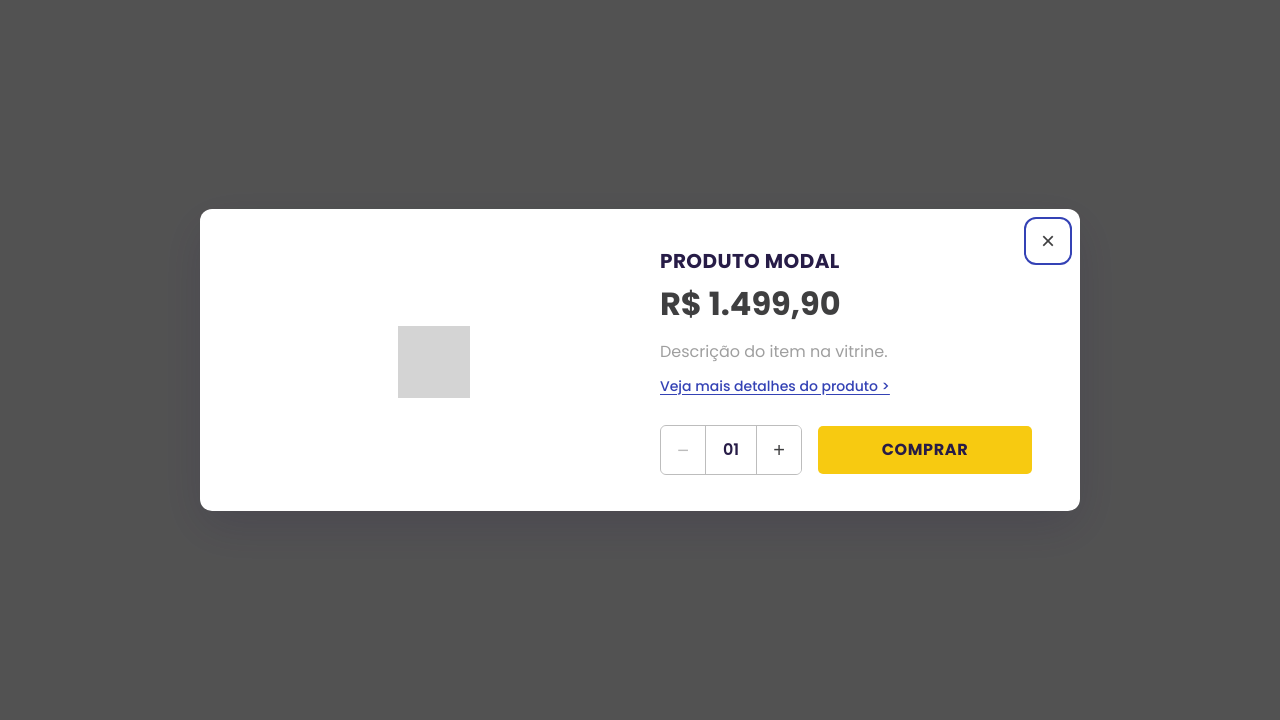
Test case: ProductModal › Should adjust quantity with stepper controls
Expected: the text "01" is shown, x1=705 y1=426 x2=757 y2=474
Click the button named "Aumentar quantidade". click: (779, 450)
box: x1=757 y1=426 x2=801 y2=474
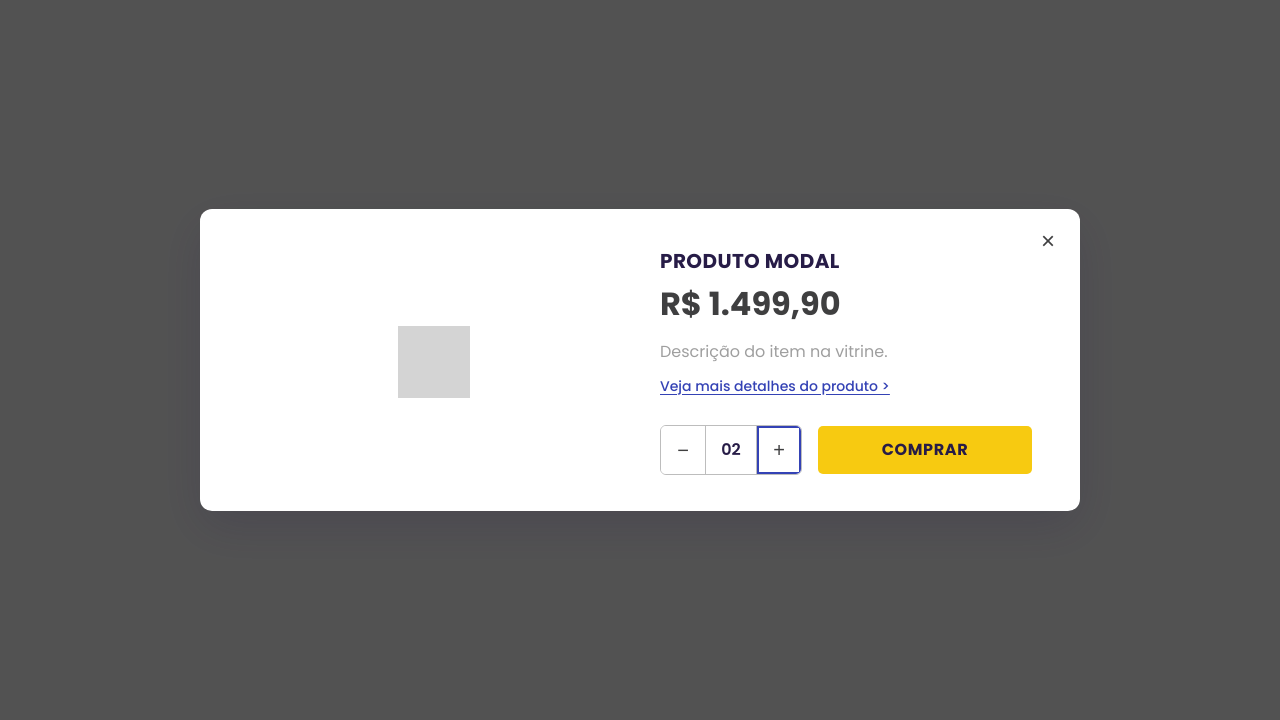
Result: the text "02" is shown at x1=705 y1=426 x2=757 y2=474
Click the button named "Diminuir quantidade". click: (683, 450)
box: x1=661 y1=426 x2=705 y2=474
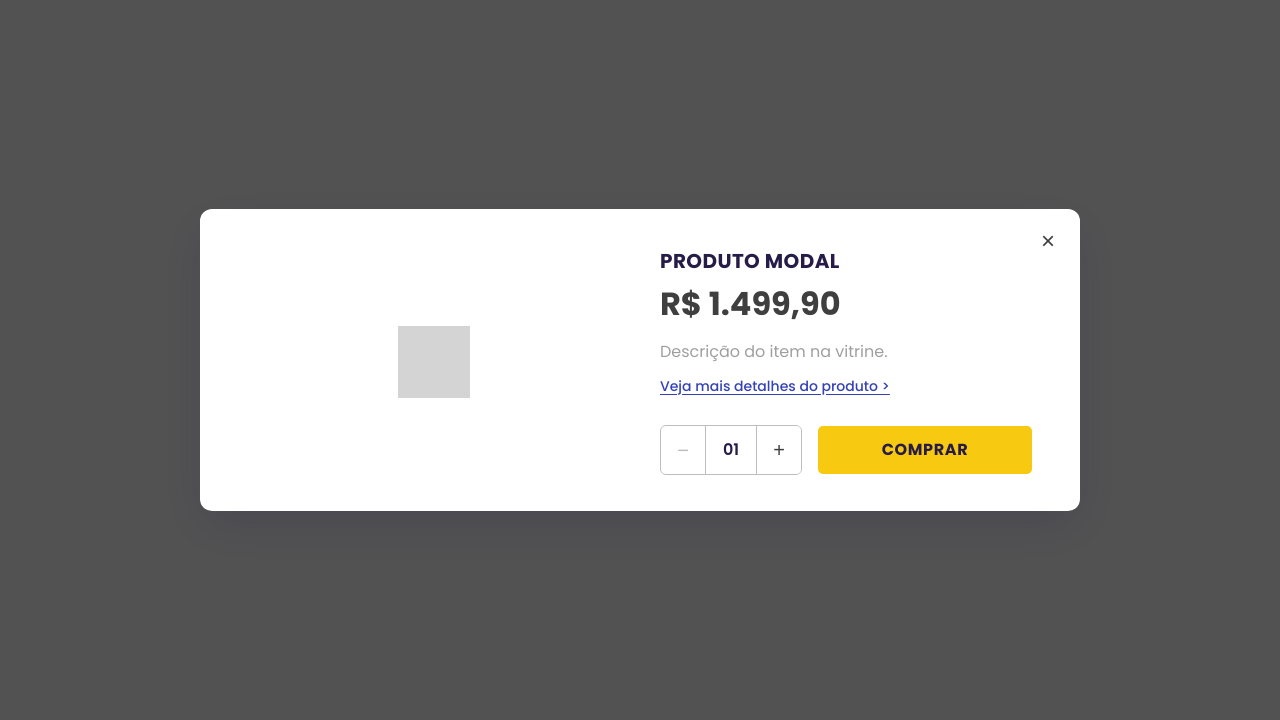
Result: the text "01" is shown at x1=705 y1=426 x2=757 y2=474
